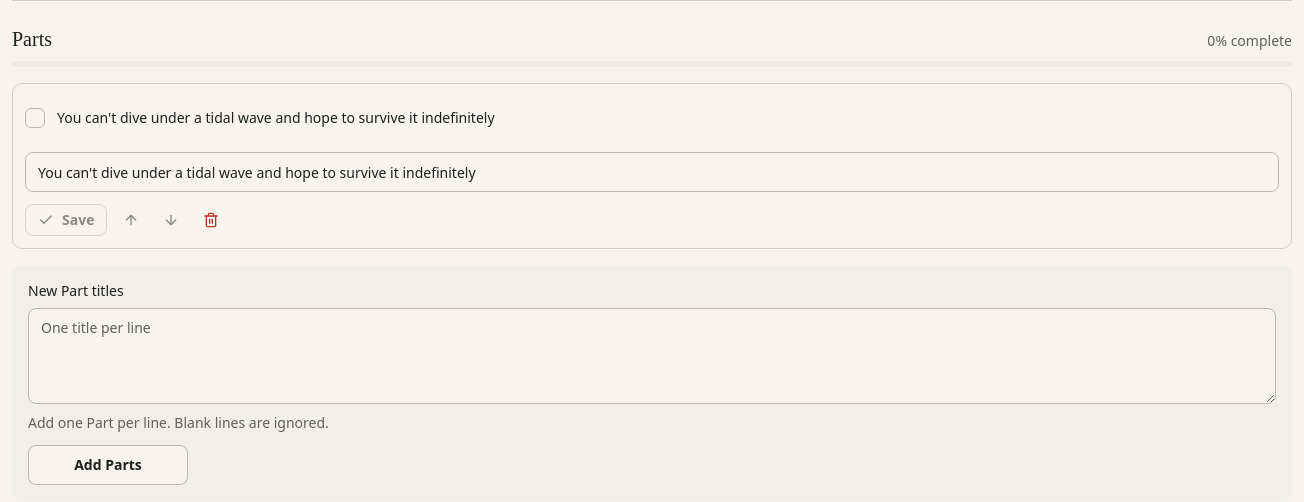
Scenario: Part checklist › keeps long Part titles inside their row and reveals the full title on focus
This screenshot has width=1304, height=502.
Focus the text "You can't dive under a tidal wave and hope to survive it indefinitely": coordinates (276, 118) left=57, top=108, right=495, bottom=128
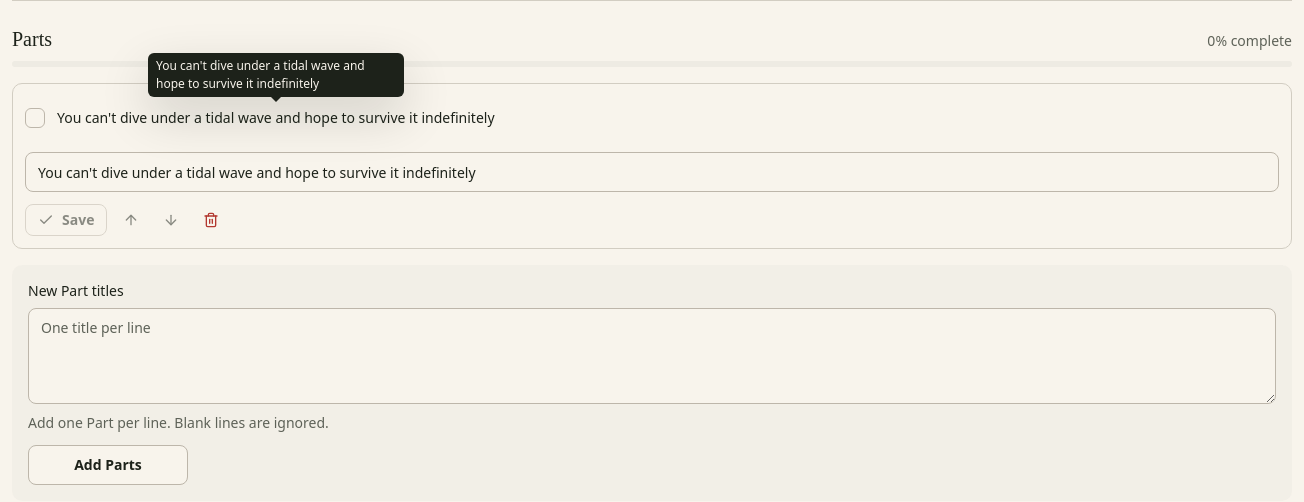
Check: the tooltip reads "You can't dive under a tidal wave and hope to survive it indefinitely", box left=156, top=57, right=365, bottom=92
